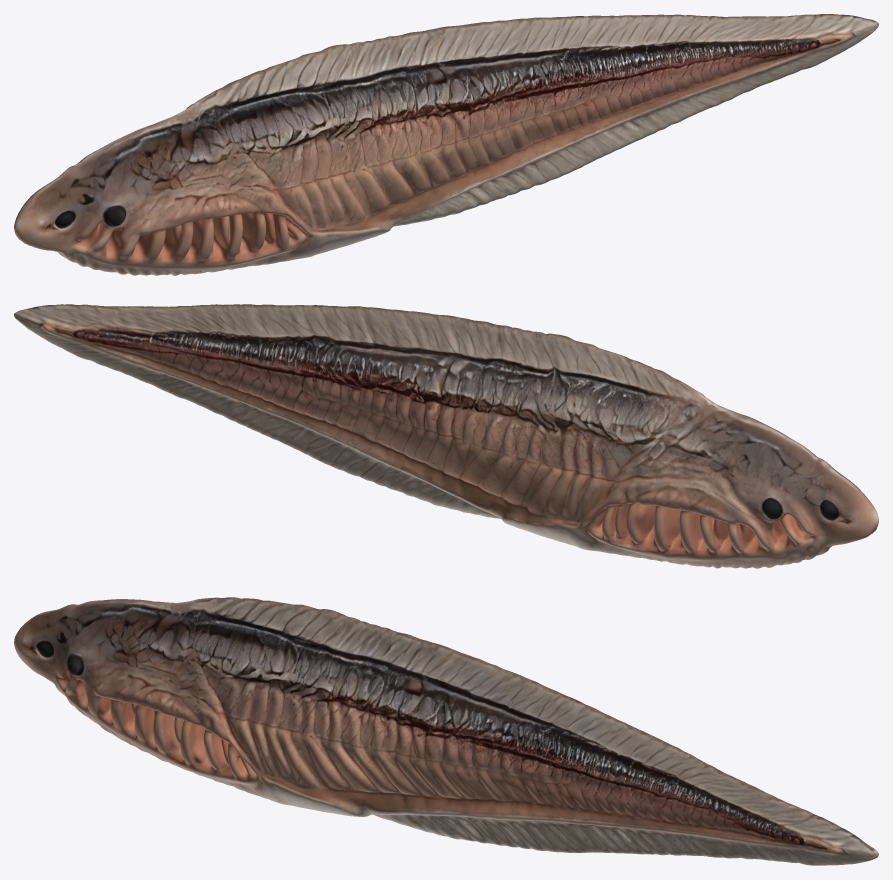
The model's file is chordate.glb.
3 renders of one model, top to bottom at view 1: azimuth 30°, elevation 25°; view 2: azimuth 150°, elevation 25°; view 3: azimuth 330°, elevation 25°, orthographic.
Parts seen in each view (by area): view 1: model; view 2: model; view 3: model.
Part boxes in pixels (x1,y1,x2,y2): model: (14,14,878,275); model: (14,304,878,568); model: (14,597,878,865).
Bounding box in the file's own units: 1.9 × 0.4218 × 0.2263.
1 material, 1 textured.
